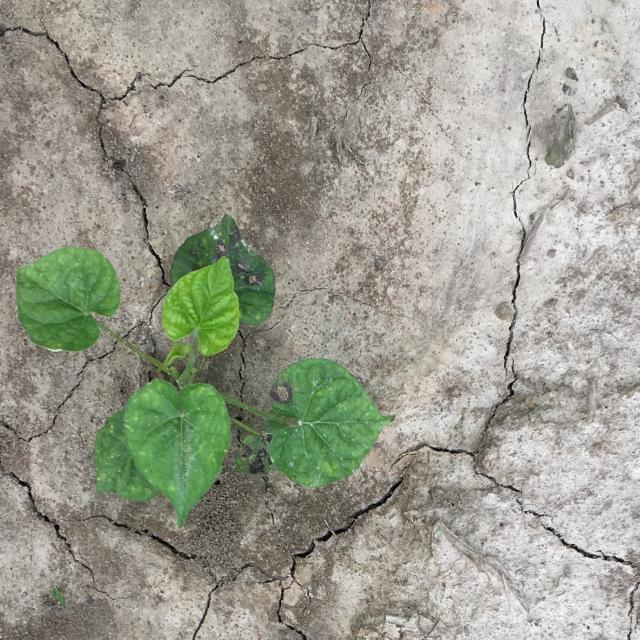MorningGlory: (17, 215, 396, 529)
